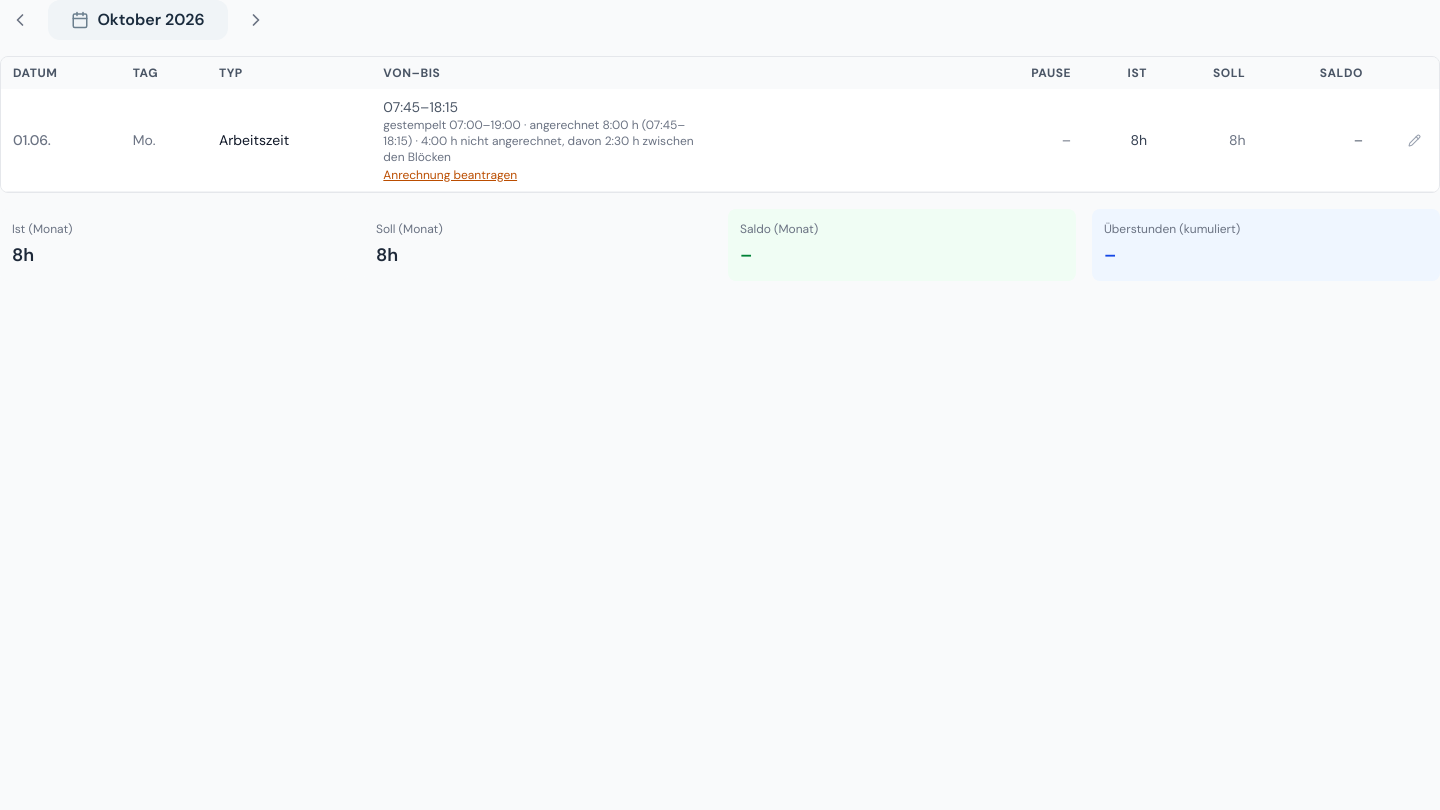
Test: <MonthlyJournal /> Anrechnung beantragen (Spec P21) › Mitarbeiter-Ansicht: öffnet den Antrag mit den Rohstempeln
What coordinates should you click on to do the following:
click the button "Anrechnung beantragen"
I would click on:
 (450, 175)
Its box is [383,167,517,183].
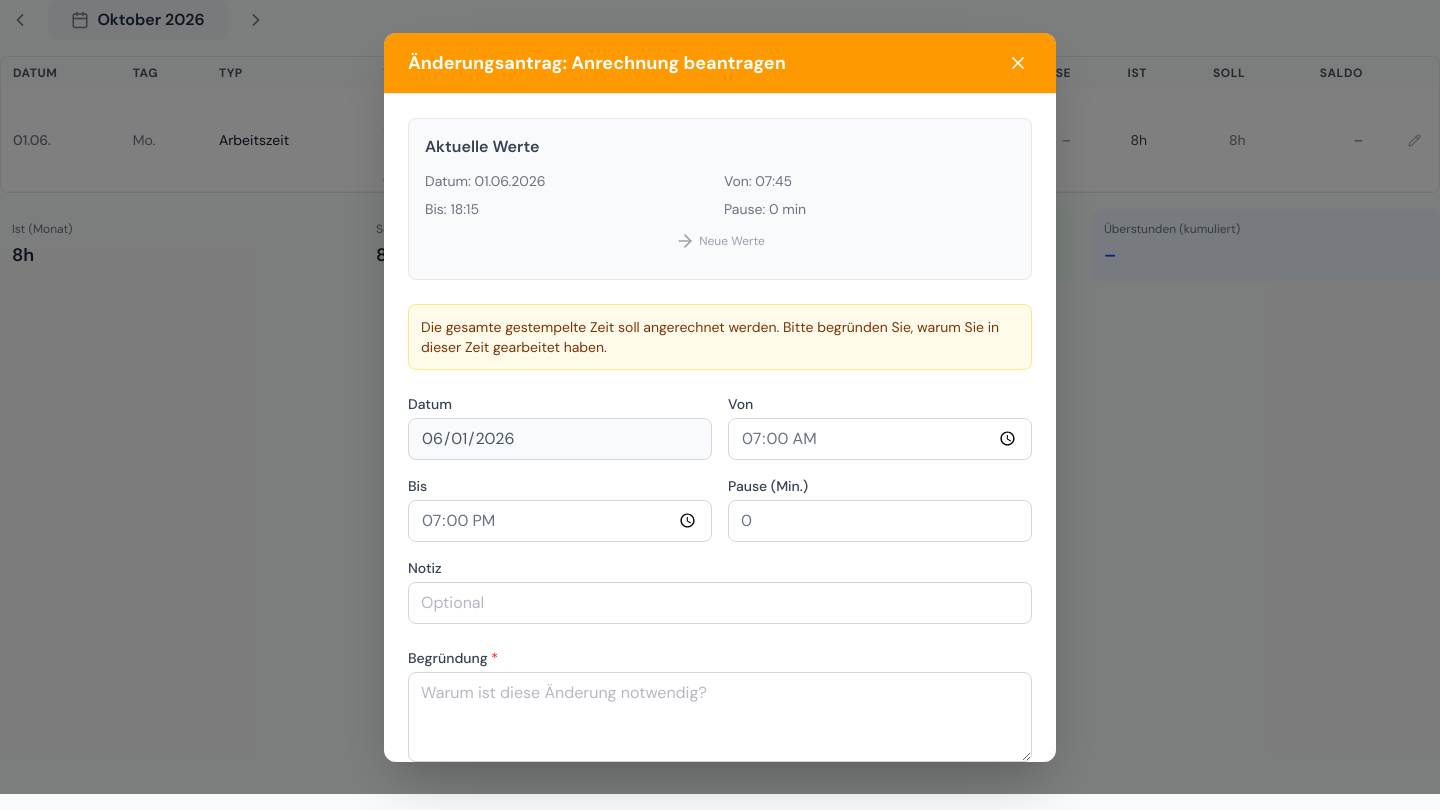
Expected: the heading "Änderungsantrag: Anrechnung beantragen" is shown, [408,48,786,76]
Expected: the time field labelled "Von" holds "07:00", [728,418,1032,460]
